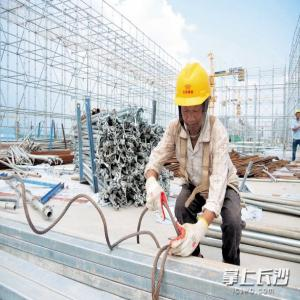yellow: (175, 61, 212, 131), (295, 110, 300, 121)
